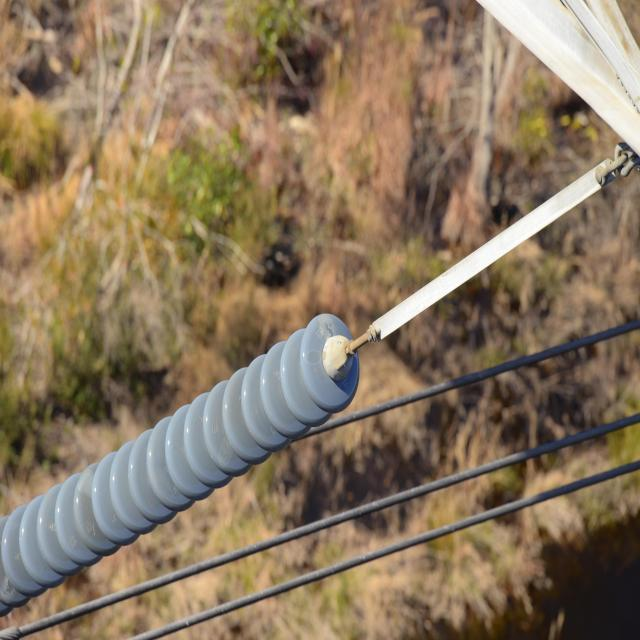insulator: (0, 312, 361, 614)
